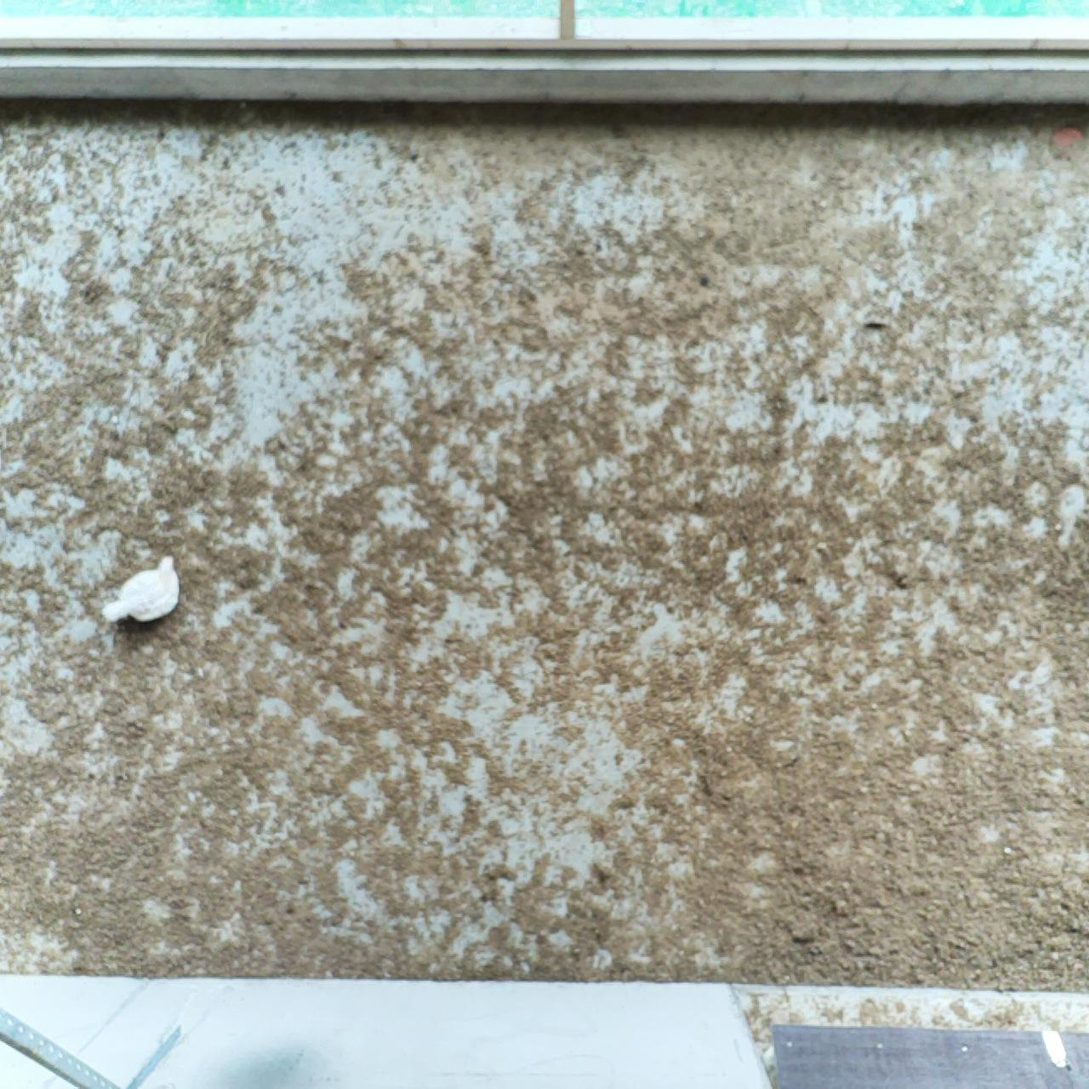chicken: (99, 548, 185, 626)
